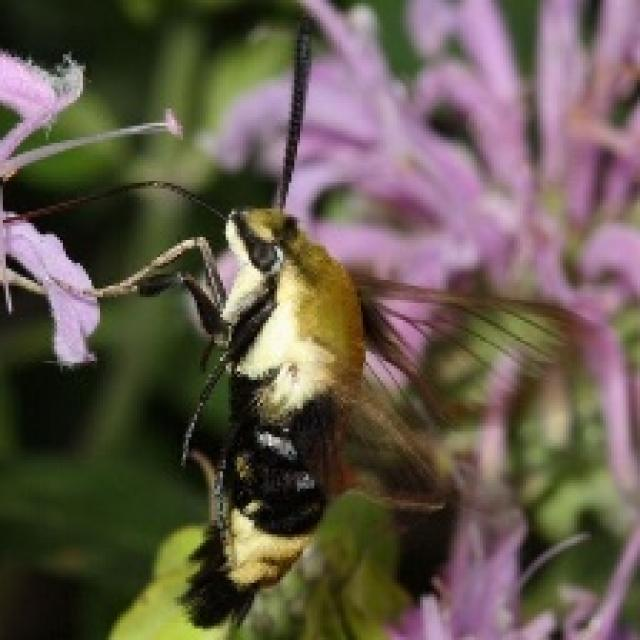butterfly: (12, 11, 594, 632)
